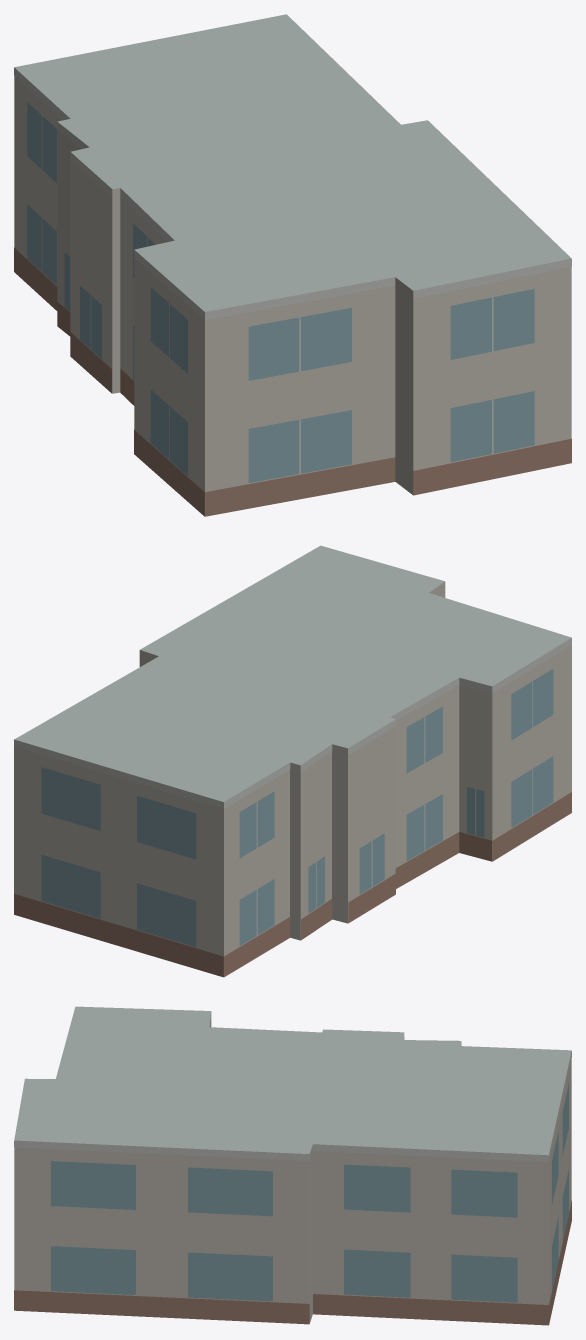
The model's file is survey-upis-32656425.glb.
The picture shows the model from 3 angles, top to bottom: view 1: azimuth 30°, elevation 25°; view 2: azimuth 150°, elevation 25°; view 3: azimuth 270°, elevation 25°; orthographic projection. The views are drawn at different scales.
Visible parts, largest first — view 1: survey-upis-32656425.tmp; view 2: survey-upis-32656425.tmp; view 3: survey-upis-32656425.tmp.
Boxes of the visible parts, left/top/right/bottom form: survey-upis-32656425.tmp: left=14, top=14, right=571, bottom=516; survey-upis-32656425.tmp: left=14, top=545, right=571, bottom=977; survey-upis-32656425.tmp: left=14, top=1006, right=571, bottom=1325.
Bounding box in the file's own units: 11.45 × 6.1 × 18.13.
